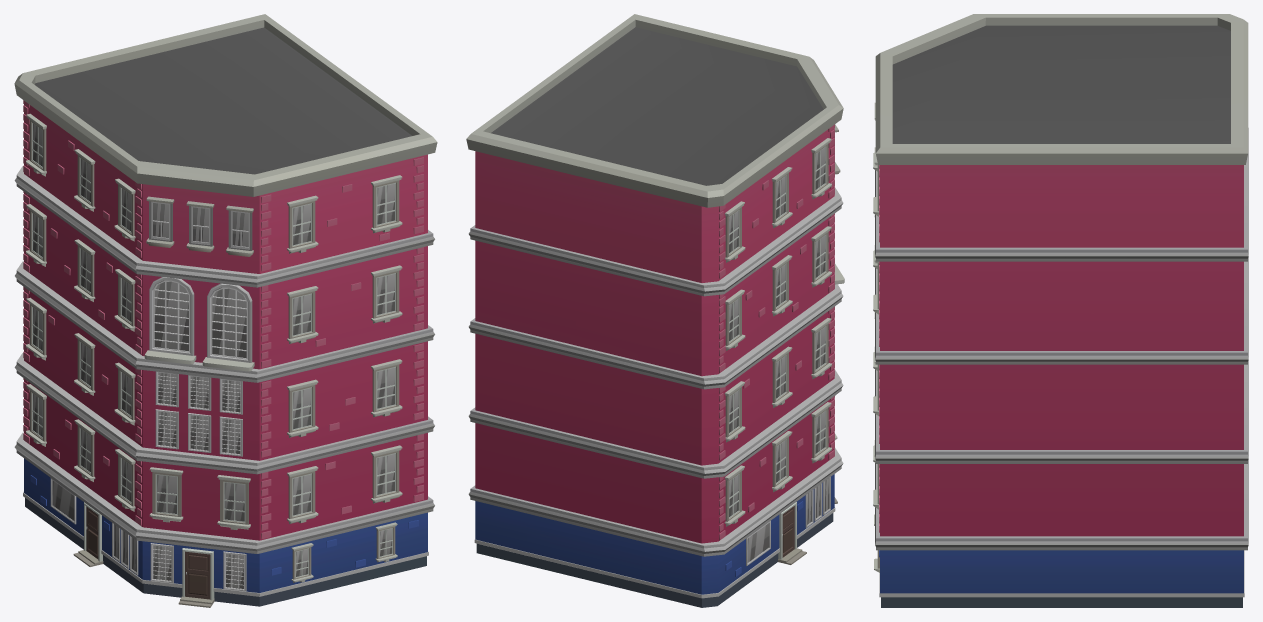
Rendered from Building_25_1_C.fbx.
3 renders of one model, left to right at view 1: azimuth 30°, elevation 25°; view 2: azimuth 150°, elevation 25°; view 3: azimuth 270°, elevation 25°, orthographic. The views are drawn at different scales.
Visible parts, largest first — view 1: Building_25_1_C; view 2: Building_25_1_C; view 3: Building_25_1_C.
Boxes of the visible parts, <box> form: Building_25_1_C: <box>14,14,437,607</box>; Building_25_1_C: <box>466,14,844,607</box>; Building_25_1_C: <box>873,14,1248,607</box>.
Bounding box in the file's own units: 1291 × 2014 × 1479.
